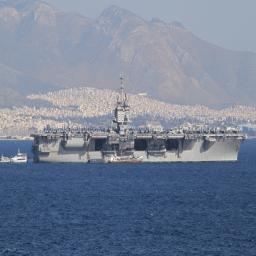Portanaves: (31, 66, 249, 166)
